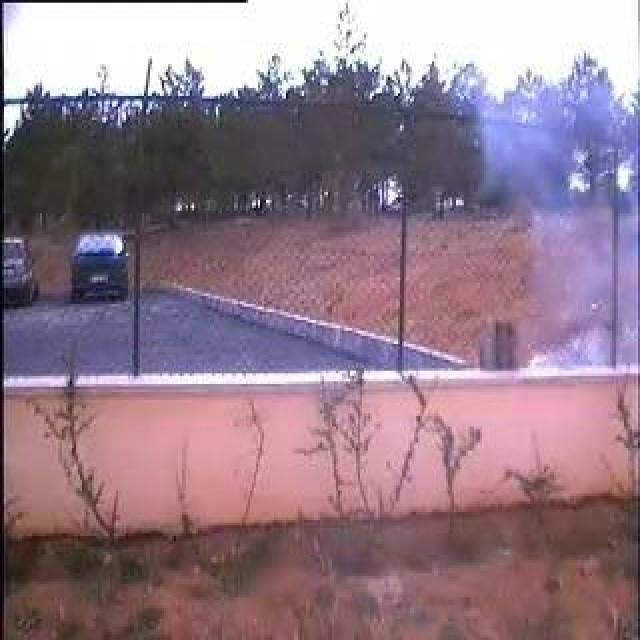Smoke: (481, 103, 633, 369)
